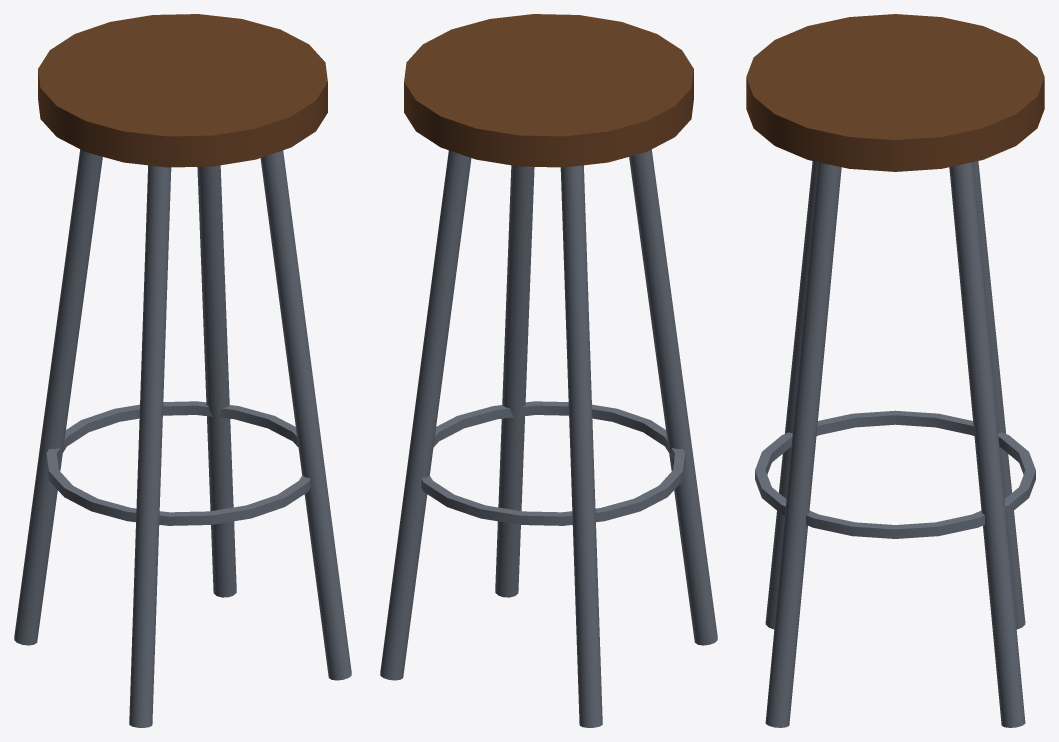
The model's file is furniture.seat.stool.glb.
3 renders of one model, left to right at view 1: azimuth 30°, elevation 25°; view 2: azimuth 150°, elevation 25°; view 3: azimuth 270°, elevation 25°, orthographic. The views are drawn at different scales.
Parts seen in each view (by area): view 1: main__steel_painted, main__hardwood; view 2: main__steel_painted, main__hardwood; view 3: main__steel_painted, main__hardwood.
Boxes of the visible parts, x1,y1,x2,y2 form: main__steel_painted: (14,149,351,727); main__hardwood: (38,14,327,167); main__steel_painted: (380,149,717,727); main__hardwood: (404,14,693,167); main__steel_painted: (755,161,1035,727); main__hardwood: (746,14,1044,171).
Size of the model in its own units: 0.34 by 0.7517 by 0.34.
